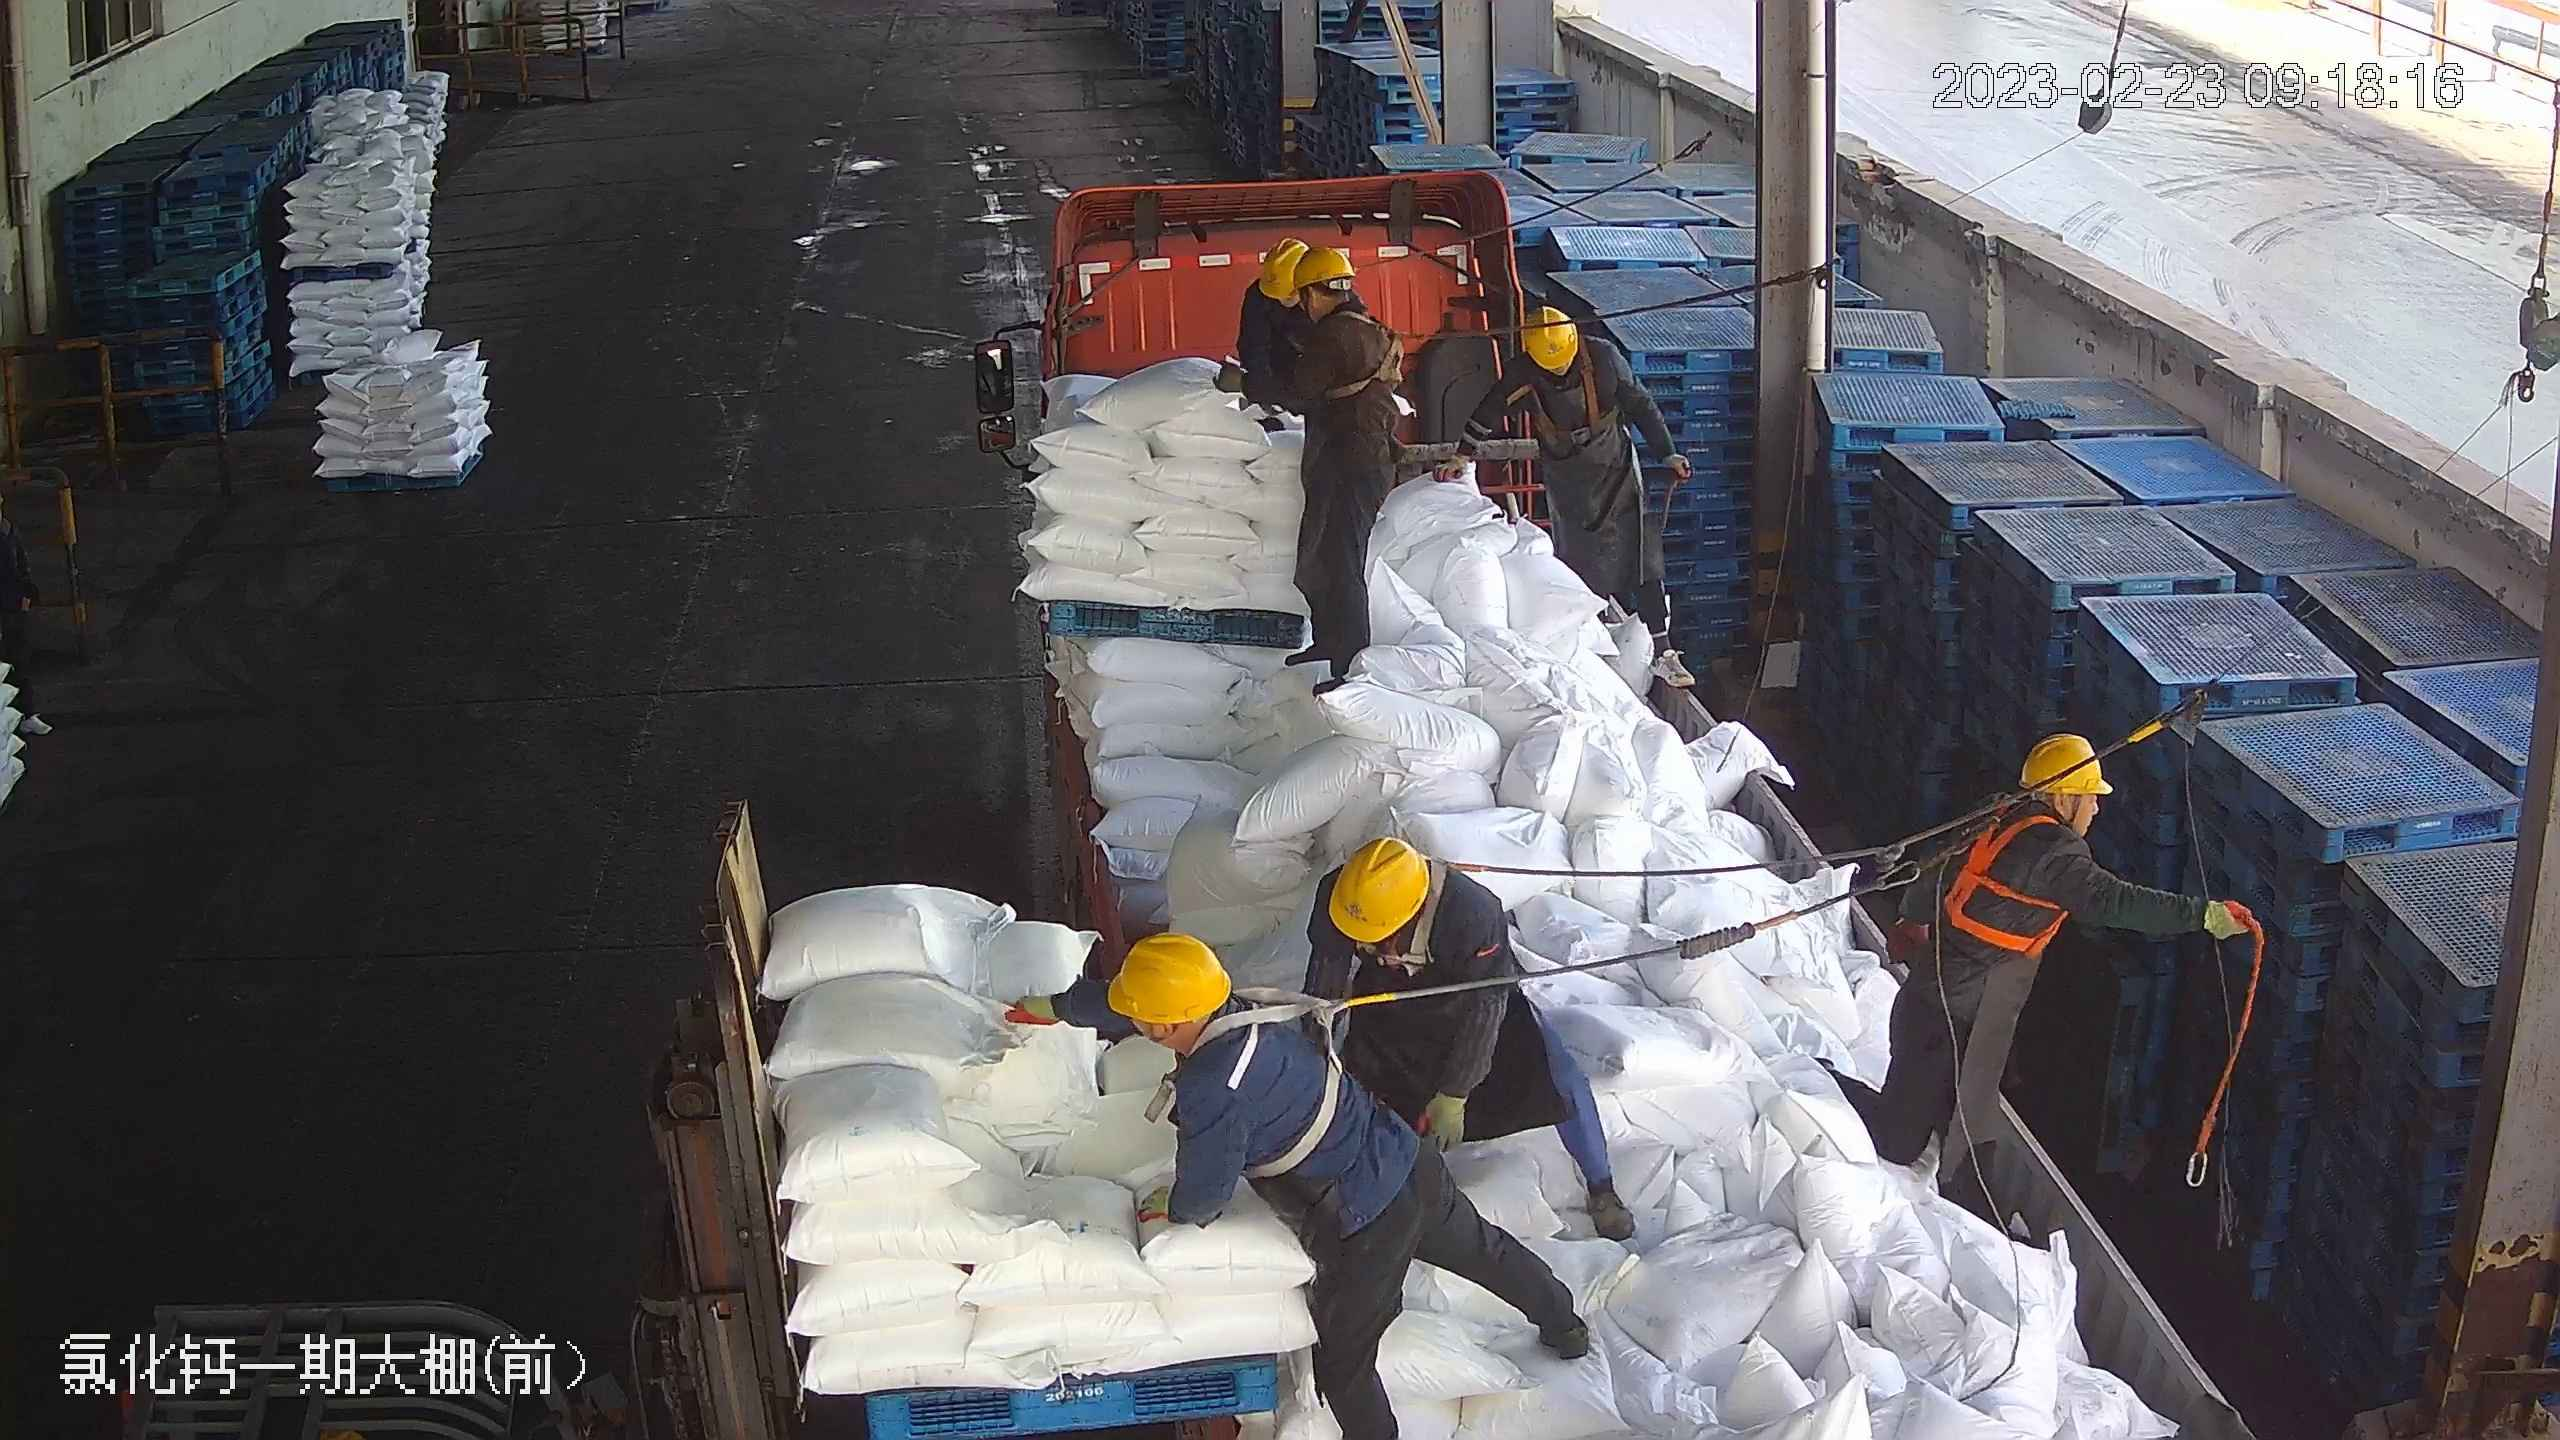belt: (1201, 993, 1394, 1177), (1935, 817, 2067, 952), (1361, 879, 1508, 988), (1319, 308, 1422, 408), (1524, 373, 1621, 453)
head: (1108, 931, 1294, 1116), (1968, 733, 2124, 902), (1321, 836, 1500, 975), (1277, 244, 1394, 370)
helmet: (1101, 927, 1233, 1023), (1327, 836, 1427, 943), (2017, 728, 2113, 794), (1518, 306, 1582, 369), (1285, 241, 1358, 296), (1256, 238, 1322, 290)
people: (1010, 934, 1597, 1440), (1853, 734, 2239, 1255), (1308, 835, 1624, 1243), (1442, 303, 1697, 648), (1247, 247, 1402, 696)
truck: (973, 163, 2257, 1433)
